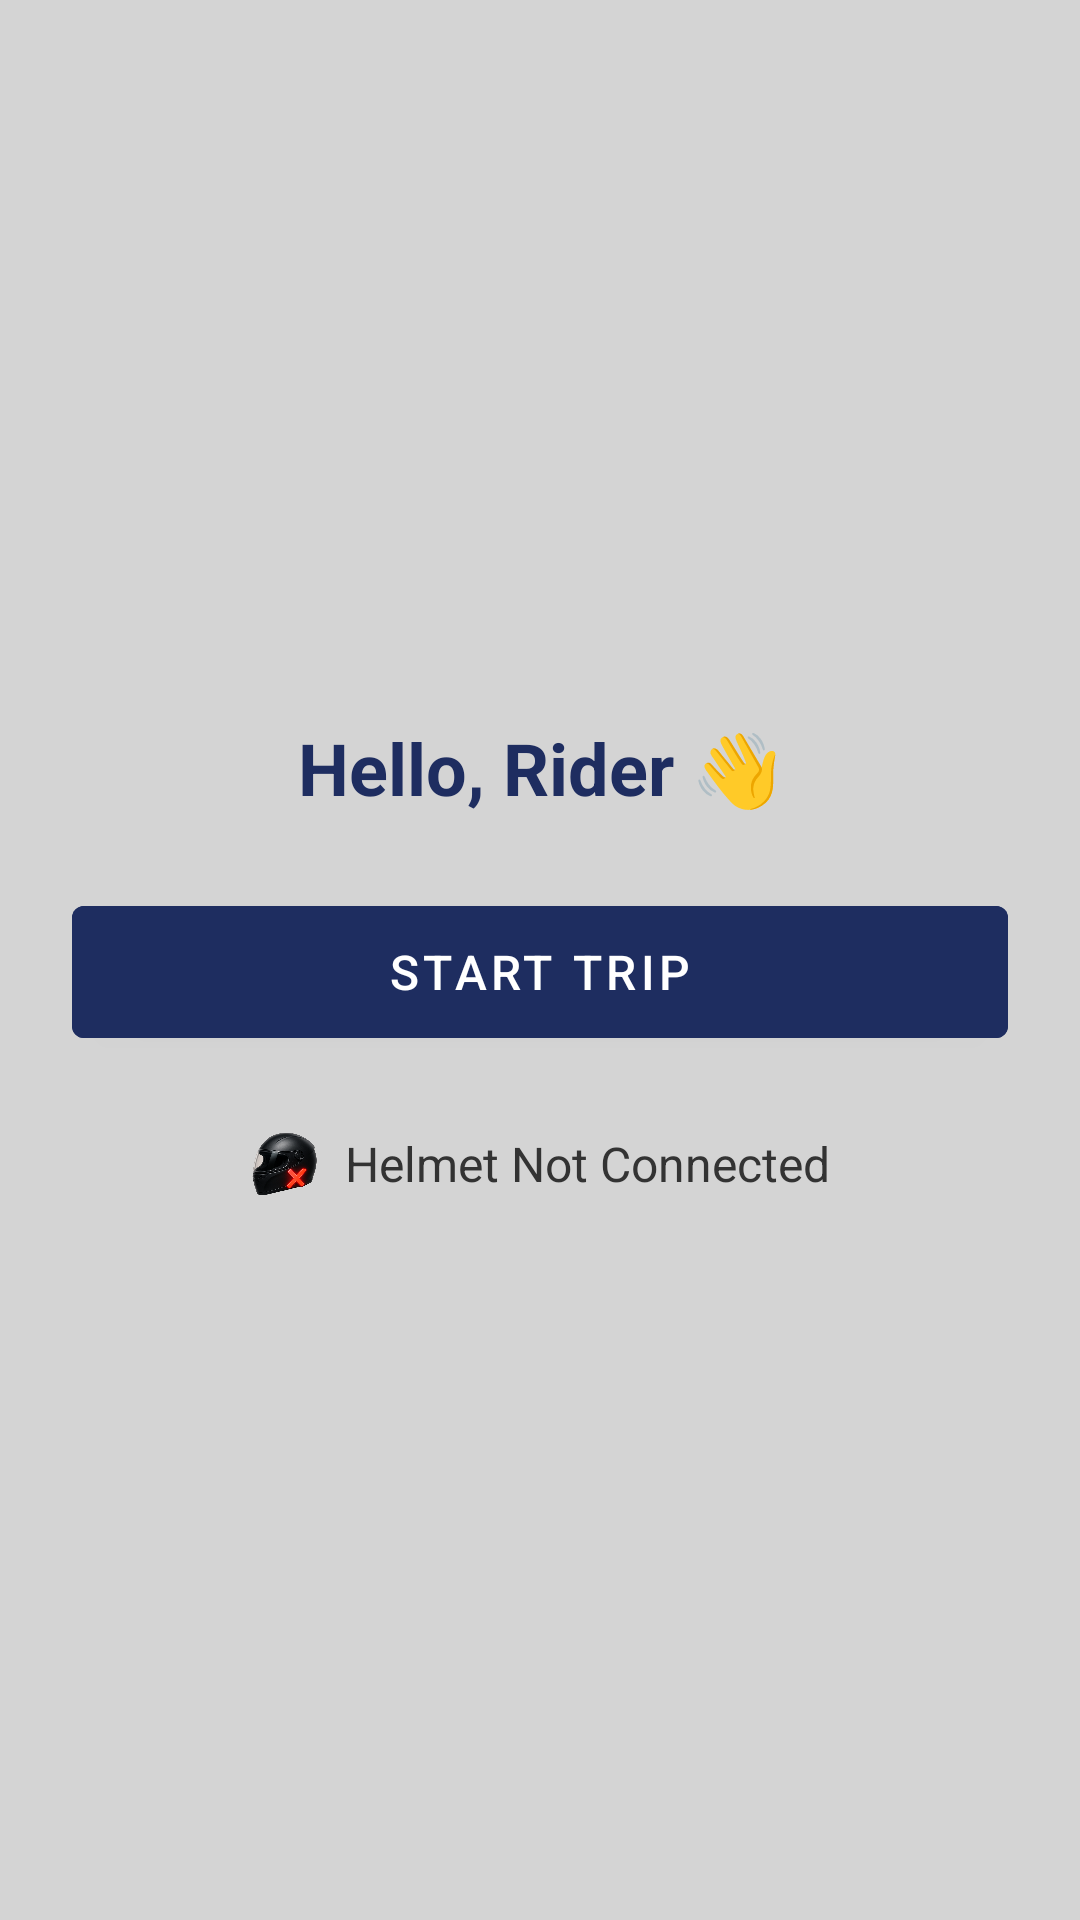

Icons on this 1080px x 1920px Android screen, each with its box as (x1, y1, x2, y2):
Helmet Status Icon: (252, 1133, 317, 1195)
